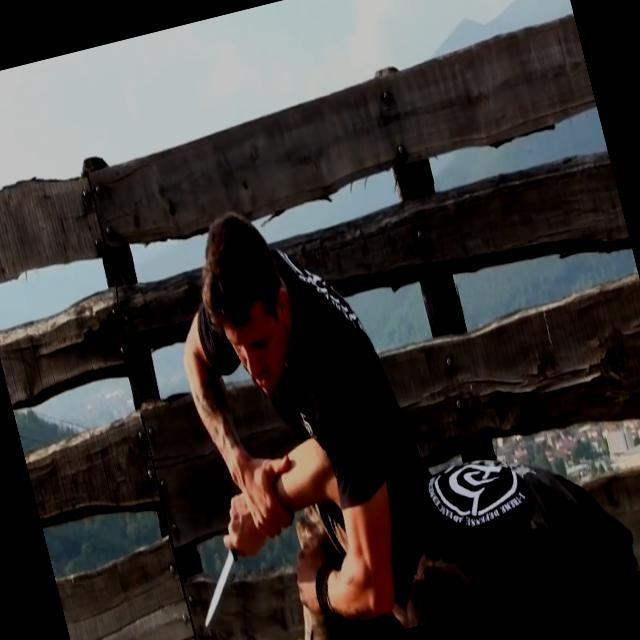knife: (168, 492, 272, 636)
